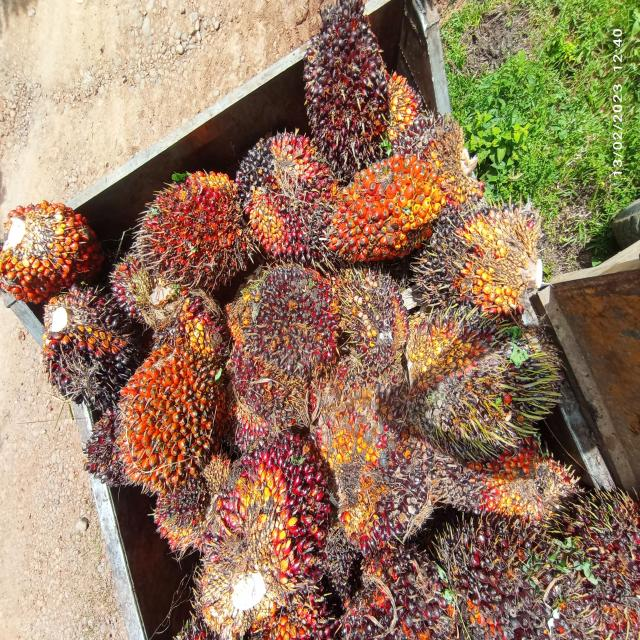fraksi 00: (379, 272, 560, 489), (408, 173, 540, 352), (28, 270, 146, 429), (328, 243, 422, 384)
fraksi 1: (186, 413, 351, 609), (314, 364, 432, 540), (305, 0, 411, 176), (240, 250, 342, 386)
fraksi 3: (245, 112, 334, 265)
fraksi 4: (85, 328, 248, 509), (0, 148, 118, 348), (324, 130, 457, 296), (120, 158, 266, 305), (465, 437, 589, 539)
